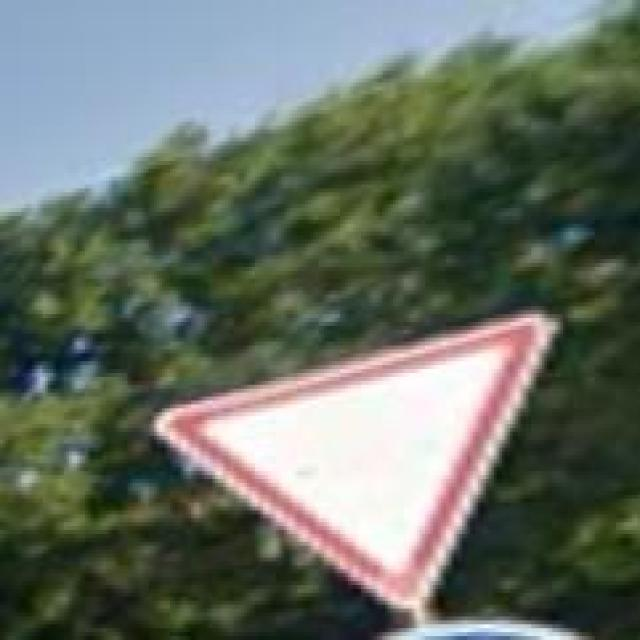give_way: (152, 310, 560, 609)
